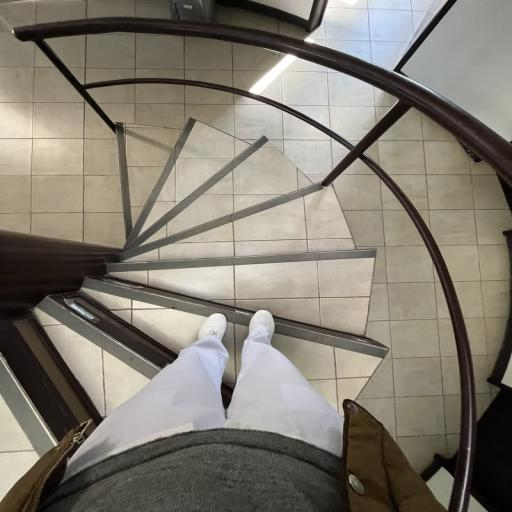laptop: (0, 119, 388, 472)
